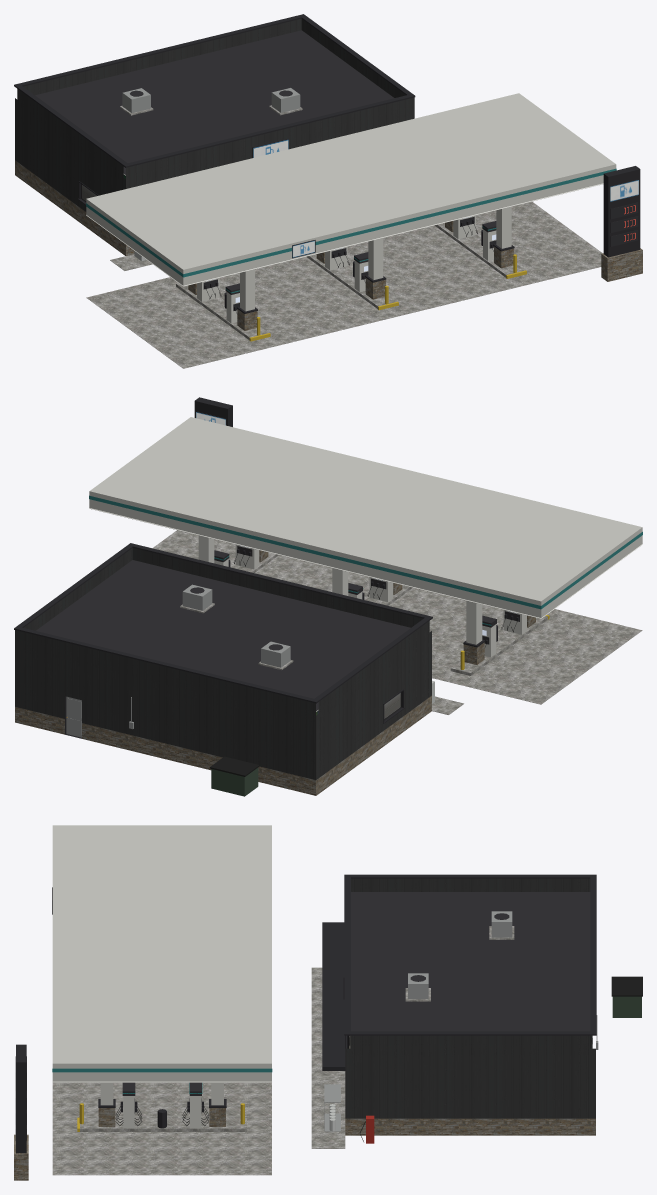
The model's file is town_gas_station.gltf.
3 views of the same model, one above another, from view 1: azimuth 30°, elevation 25°; view 2: azimuth 150°, elevation 25°; view 3: azimuth 270°, elevation 25° (orthographic). The views are drawn at different scales.
Parts seen in each view (by area): view 1: TownGasStation_Fascia, TownGasStation_CanopyDeck, TownGasStation_RoofDeck, TownGasStation_Parapet, TownGasStation_Walls, TownGasStation_Coping, TownGasStation_Columns, TownGasStation_Pylon, TownGasStation_Islands, TownGasStation_Pumps, TownGasStation_Stripe, TownGasStation_Base (+4 smaller); view 2: TownGasStation_Fascia, TownGasStation_Walls, TownGasStation_RoofDeck, TownGasStation_CanopyDeck, TownGasStation_Parapet, TownGasStation_Base, TownGasStation_Coping, TownGasStation_Stripe, TownGasStation_Columns, TownGasStation_Pumps, TownGasStation_Dumpster, TownGasStation_Islands (+4 smaller); view 3: TownGasStation_Fascia, TownGasStation_RoofDeck, TownGasStation_Walls, TownGasStation_CanopyDeck, TownGasStation_Parapet, TownGasStation_Coping, TownGasStation_Base, TownGasStation_Awning, TownGasStation_Apron, TownGasStation_Islands, TownGasStation_Pylon, TownGasStation_Columns (+5 smaller).
Boxes of the visible parts, <box> form: TownGasStation_Fascia: <box>86,93,616,286</box>; TownGasStation_CanopyDeck: <box>86,201,602,368</box>; TownGasStation_RoofDeck: <box>35,30,394,174</box>; TownGasStation_Parapet: <box>17,18,414,184</box>; TownGasStation_Walls: <box>15,98,414,211</box>; TownGasStation_Coping: <box>14,14,415,167</box>; TownGasStation_Columns: <box>188,206,514,330</box>; TownGasStation_Pylon: <box>601,166,642,281</box>; TownGasStation_Islands: <box>176,223,526,341</box>; TownGasStation_Pumps: <box>197,215,496,323</box>; TownGasStation_Stripe: <box>86,168,616,277</box>; TownGasStation_Base: <box>15,160,134,255</box>; TownGasStation_Fascia: <box>89,417,642,618</box>; TownGasStation_Walls: <box>15,631,431,779</box>; TownGasStation_RoofDeck: <box>36,560,410,710</box>; TownGasStation_CanopyDeck: <box>153,530,642,704</box>; TownGasStation_Parapet: <box>15,548,429,720</box>; TownGasStation_Base: <box>15,695,431,795</box>; TownGasStation_Coping: <box>14,543,432,703</box>; TownGasStation_Stripe: <box>89,495,642,609</box>; TownGasStation_Columns: <box>198,535,535,664</box>; TownGasStation_Pumps: <box>214,544,526,657</box>; TownGasStation_Dumpster: <box>210,756,259,796</box>; TownGasStation_Islands: <box>231,552,549,675</box>; TownGasStation_Fascia: <box>52,825,271,1082</box>; TownGasStation_RoofDeck: <box>351,892,590,1031</box>; TownGasStation_Walls: <box>345,1048,595,1118</box>; TownGasStation_CanopyDeck: <box>52,1082,271,1175</box>; TownGasStation_Parapet: <box>350,878,590,1054</box>; TownGasStation_Coping: <box>344,874,596,1035</box>; TownGasStation_Base: <box>345,1118,595,1135</box>; TownGasStation_Awning: <box>322,922,345,1070</box>; TownGasStation_Apron: <box>311,967,345,1148</box>; TownGasStation_Islands: <box>77,1117,246,1131</box>; TownGasStation_Pylon: <box>14,1044,28,1180</box>; TownGasStation_Columns: <box>98,1082,226,1126</box>.
Size of what is drawn, in the model's own units: 27.61 by 6.2 by 30.1.
2 materials, 2 textured.
